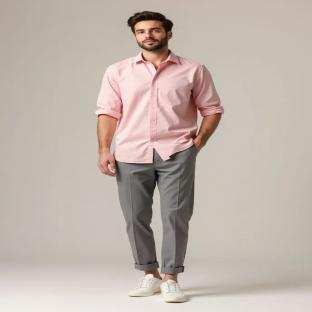Human: (95, 11, 224, 302)
